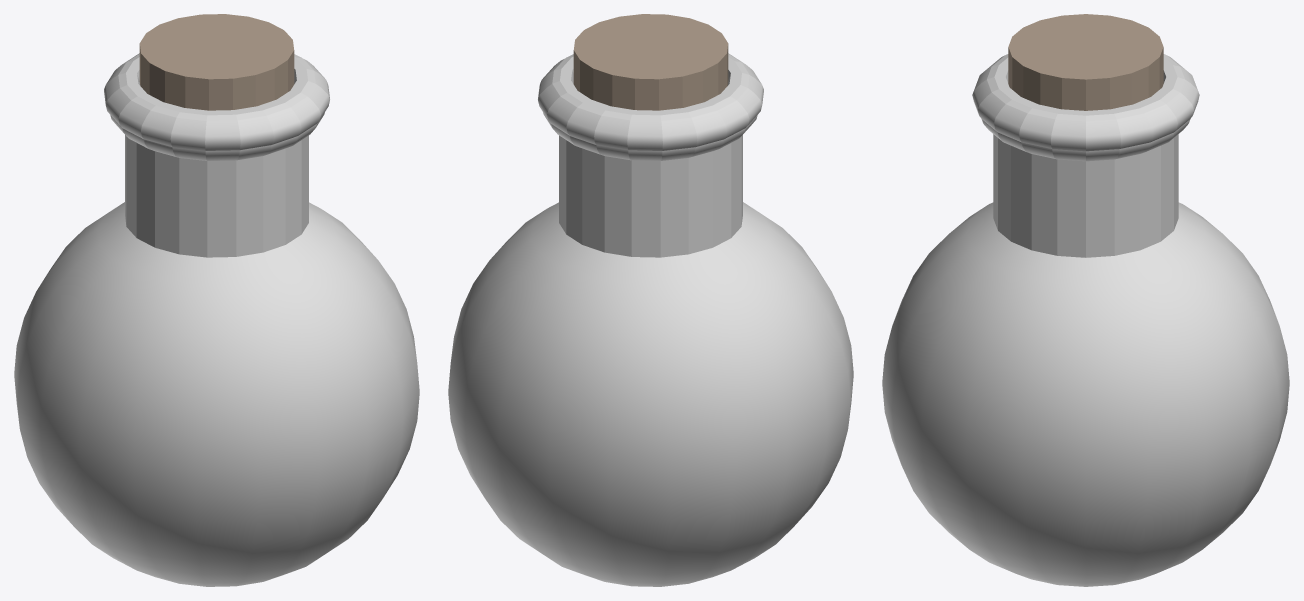
Rendered from Potion_5.fbx.
3 views of the same model, side by side, from view 1: azimuth 30°, elevation 25°; view 2: azimuth 150°, elevation 25°; view 3: azimuth 270°, elevation 25° (orthographic).
Parts seen in each view (by area): view 1: Potion5; view 2: Potion5; view 3: Potion5.
Part boxes in pixels (box(x1,y1,x2,y2)): Potion5: box(14, 14, 419, 586); Potion5: box(448, 14, 853, 586); Potion5: box(882, 14, 1289, 586).
Size of the model in its own units: 76.21 by 106 by 76.21.
